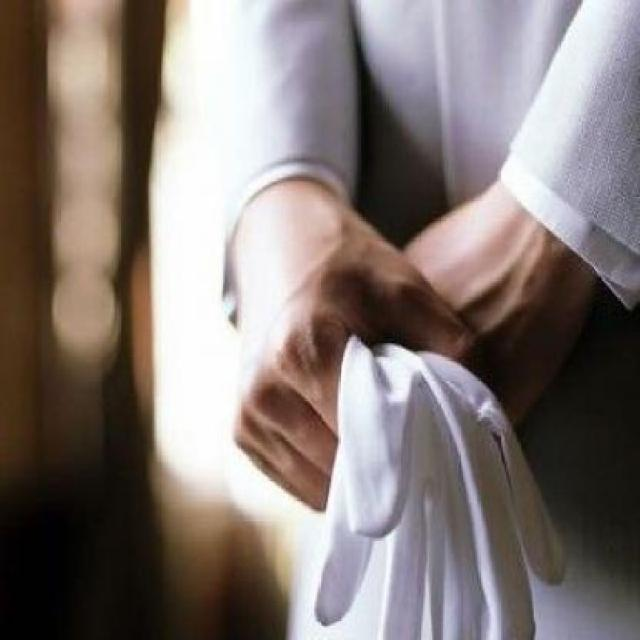hand_noglove: (226, 238, 472, 516), (407, 192, 573, 454)
